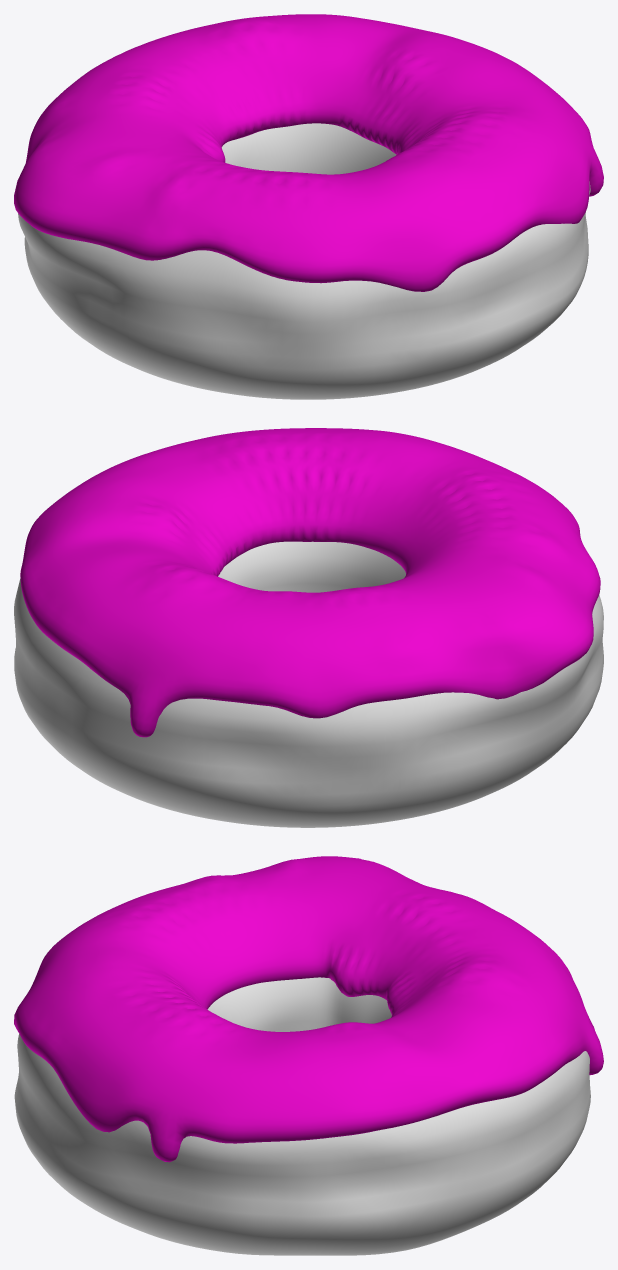
File: donut.glb
3 views of the same model, one above another, from view 1: azimuth 30°, elevation 25°; view 2: azimuth 150°, elevation 25°; view 3: azimuth 270°, elevation 25° (orthographic). The views are drawn at different scales.
Parts seen in each view (by area): view 1: Icing, Donut; view 2: Icing, Donut; view 3: Icing, Donut.
Boxes of the visible parts, bbox=[...] form: Icing: bbox=[14, 14, 603, 291]; Donut: bbox=[18, 123, 590, 399]; Icing: bbox=[20, 428, 600, 737]; Donut: bbox=[14, 541, 603, 827]; Icing: bbox=[14, 856, 603, 1162]; Donut: bbox=[14, 977, 590, 1255].
Size of what is drawn, in the model's own units: 0.159 by 0.0625 by 0.155.
